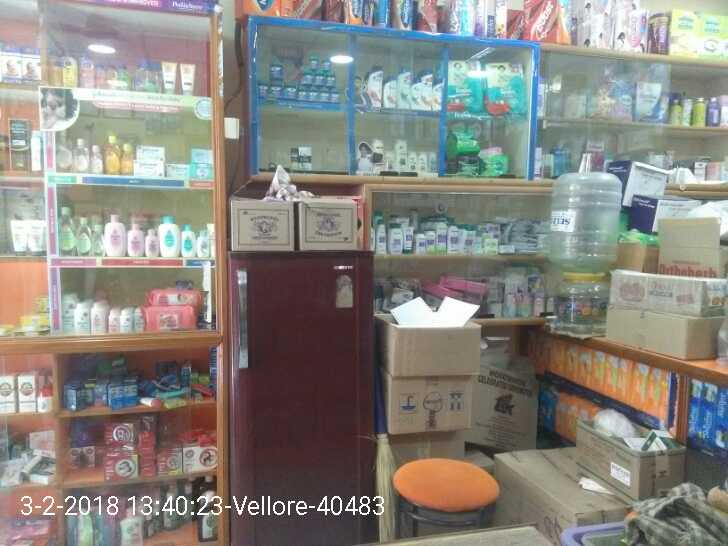vicks: (256, 47, 344, 105)
